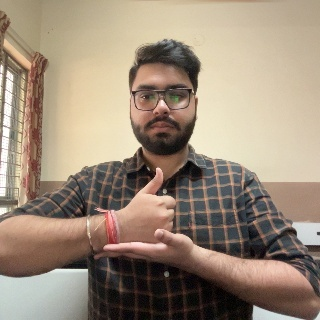Face: (132, 49, 197, 155)
Help: (93, 165, 205, 265)
